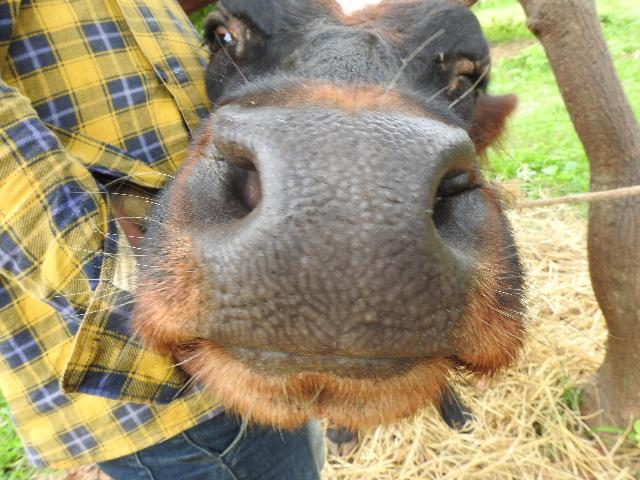Muzzle: (250, 112, 436, 350)
